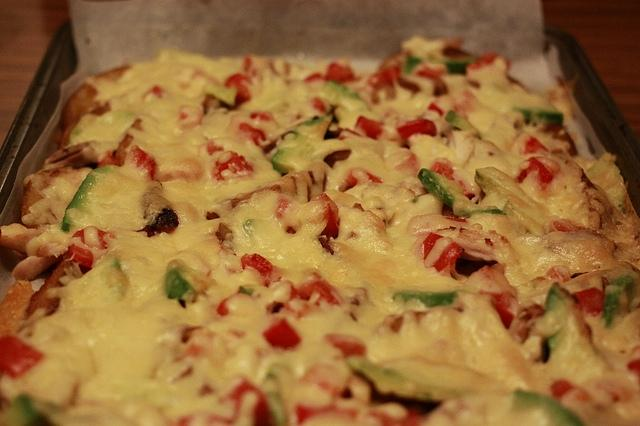bell pepper: (356, 358, 482, 398), (417, 168, 508, 219), (271, 114, 332, 174), (62, 166, 110, 232), (210, 381, 274, 426), (297, 382, 358, 426), (512, 390, 584, 426), (603, 272, 640, 330), (202, 74, 252, 115), (414, 232, 464, 272), (0, 334, 43, 380), (69, 229, 116, 268), (481, 292, 516, 330), (262, 317, 302, 349), (288, 282, 340, 306), (544, 282, 580, 316), (122, 144, 154, 180), (394, 293, 458, 311), (338, 168, 384, 192), (444, 111, 482, 140), (241, 253, 272, 288), (515, 156, 553, 184), (215, 152, 252, 180), (397, 120, 436, 146), (320, 193, 340, 240), (512, 107, 563, 124), (365, 66, 401, 90), (571, 288, 604, 314), (166, 268, 193, 298), (354, 115, 384, 140), (324, 62, 356, 85), (438, 59, 477, 74), (329, 81, 360, 99), (266, 394, 283, 426), (550, 380, 573, 398), (250, 112, 269, 121)
